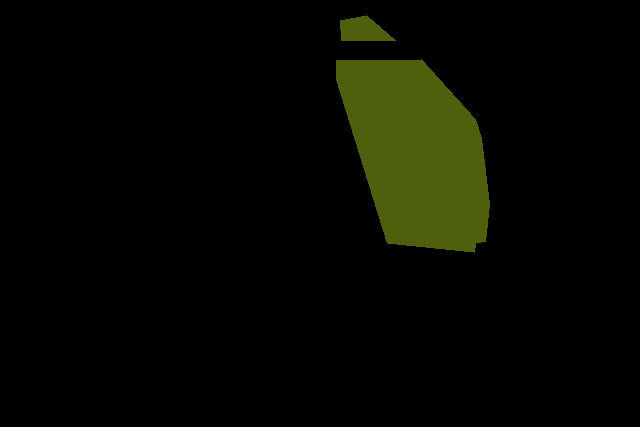Train: (336, 15, 489, 253)
